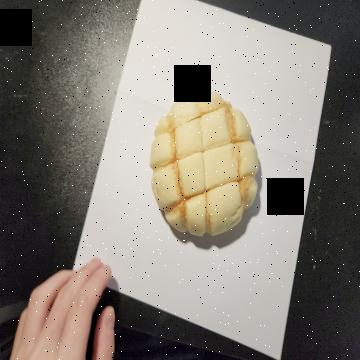melon_bread: (150, 90, 260, 238)
